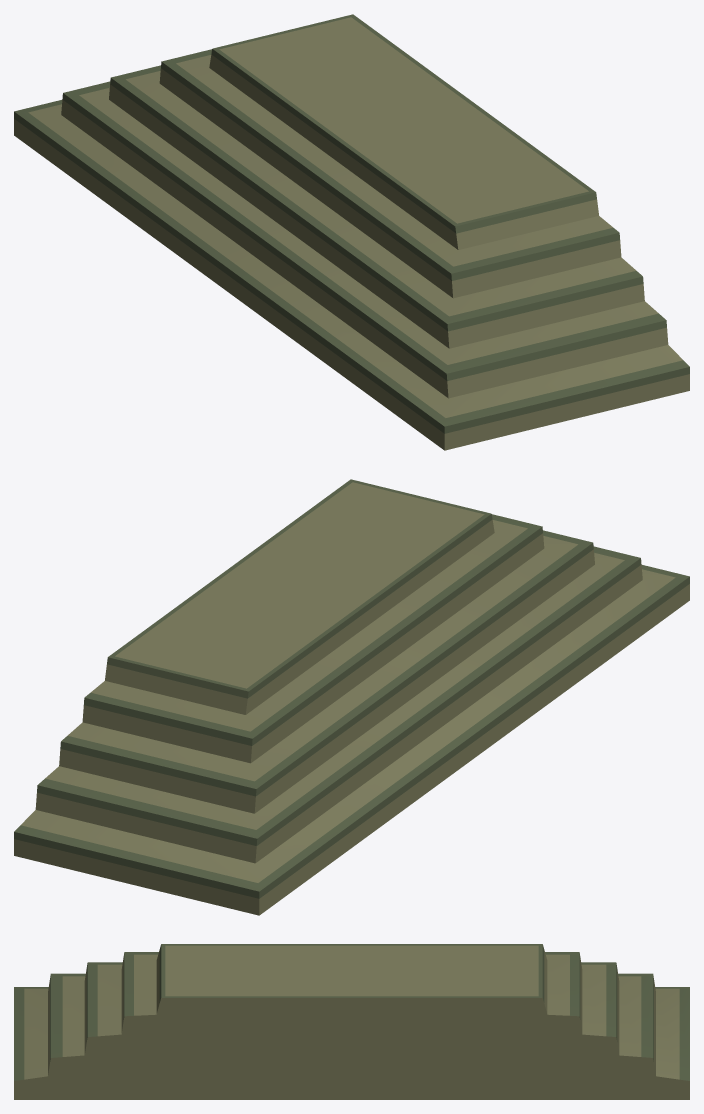
The model's file is stairs03.fbx.
3 views of the same model, one above another, from view 1: azimuth 30°, elevation 25°; view 2: azimuth 150°, elevation 25°; view 3: azimuth 270°, elevation 25° (orthographic). The views are drawn at different scales.
Parts seen in each view (by area): view 1: stairs03; view 2: stairs03; view 3: stairs03.
Part boxes in pixels (x1,y1,x2,y2): stairs03: (14,14,689,450); stairs03: (14,479,689,915); stairs03: (14,944,689,1099).
Size of the model in its own units: 1.95 by 0.9888 by 5.94.
